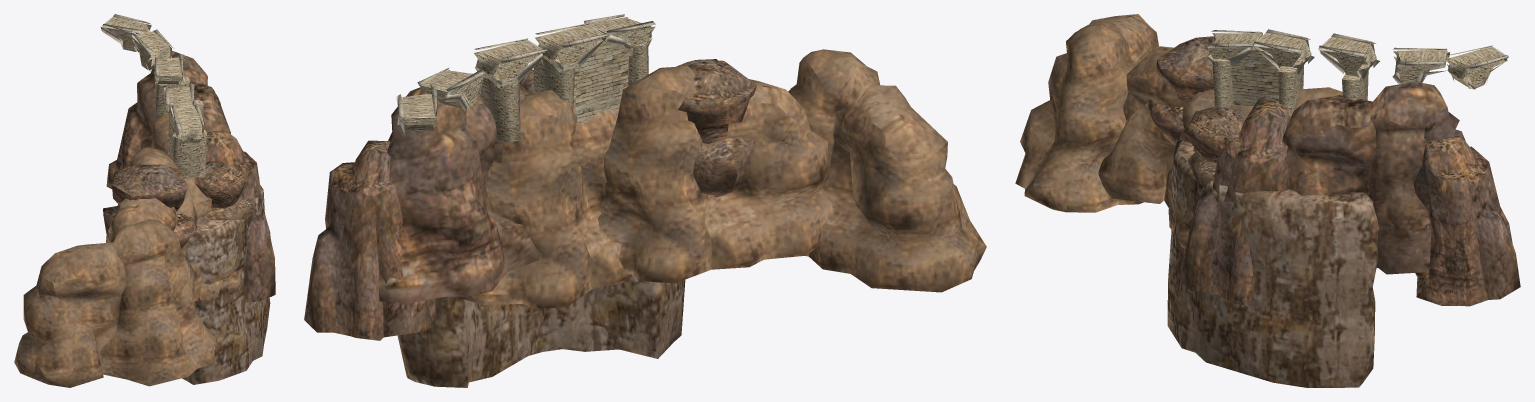
3 renders of one model, left to right at view 1: azimuth 30°, elevation 25°; view 2: azimuth 150°, elevation 25°; view 3: azimuth 270°, elevation 25°, orthographic. The views are drawn at different scales.
Parts seen in each view (by area): view 1: Lobby_Merged03-2_SM_YCY; view 2: Lobby_Merged03-2_SM_YCY; view 3: Lobby_Merged03-2_SM_YCY.
Part boxes in pixels (box(x1,y1,x2,y2)): Lobby_Merged03-2_SM_YCY: box(14, 14, 275, 387); Lobby_Merged03-2_SM_YCY: box(304, 14, 986, 387); Lobby_Merged03-2_SM_YCY: box(1015, 14, 1520, 387).
Size of the model in its own units: 28.03 by 20.72 by 31.22.
Materials: 1 (1 with a texture image).
